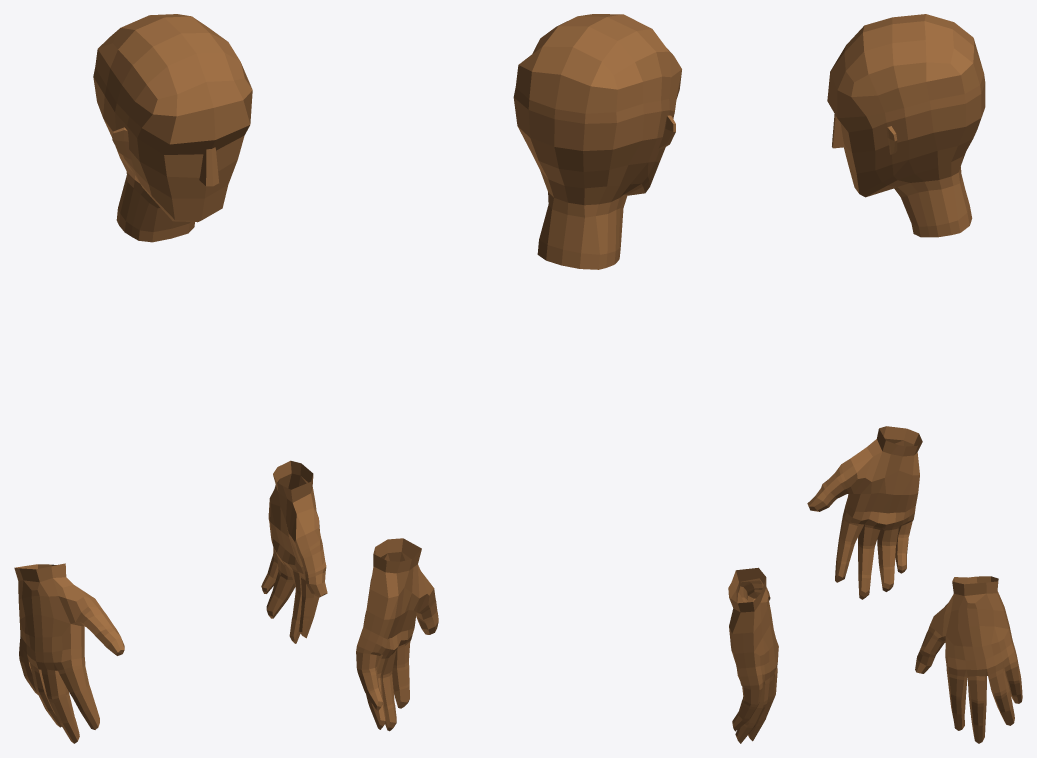
The model's file is Skin.obj.
The picture shows the model from 3 angles, left to right: view 1: azimuth 30°, elevation 25°; view 2: azimuth 150°, elevation 25°; view 3: azimuth 270°, elevation 25°; orthographic projection. The views are drawn at different scales.
Size of the model in its own units: 0.5523 by 1.09 by 0.3264.
